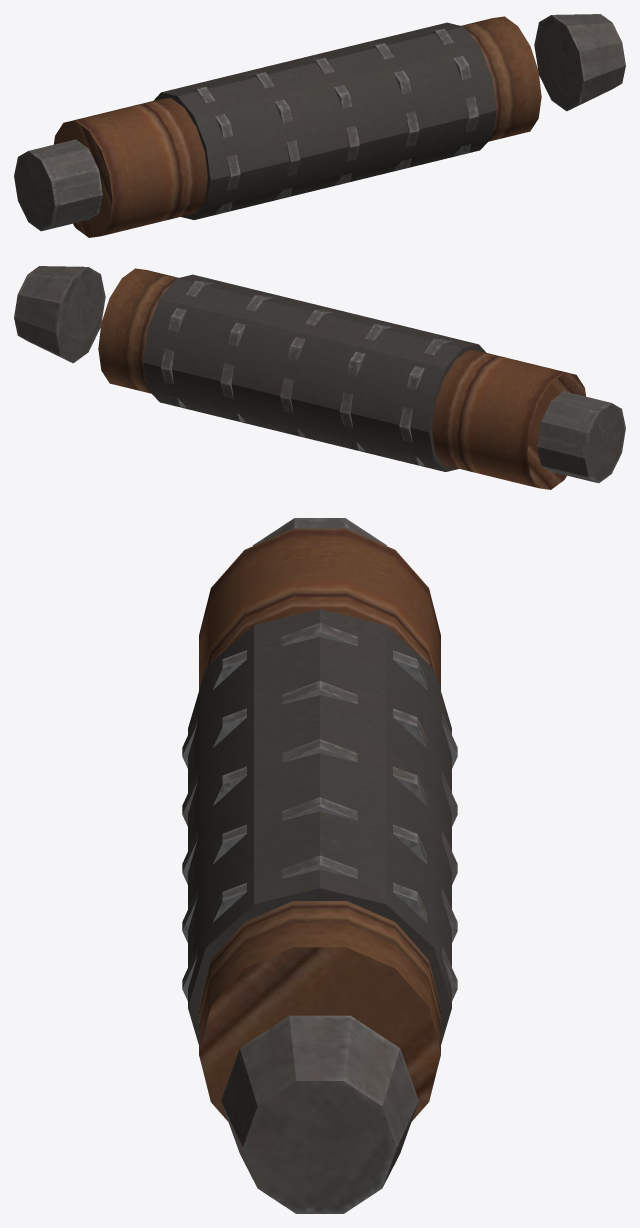
Rendered from mourners_sleeve.glb.
3 renders of one model, top to bottom at view 1: azimuth 30°, elevation 25°; view 2: azimuth 150°, elevation 25°; view 3: azimuth 270°, elevation 25°, orthographic. The views are drawn at different scales.
Visible parts, largest first — view 1: mourners_sleeve; view 2: mourners_sleeve; view 3: mourners_sleeve.
Part boxes in pixels (x1,y1,x2,y2): mourners_sleeve: (14,14,625,237); mourners_sleeve: (14,266,625,489); mourners_sleeve: (182,518,457,1213).
Size of the model in its own units: 0.24 by 0.05 by 0.05.
Materials: 1 (1 with a texture image).
